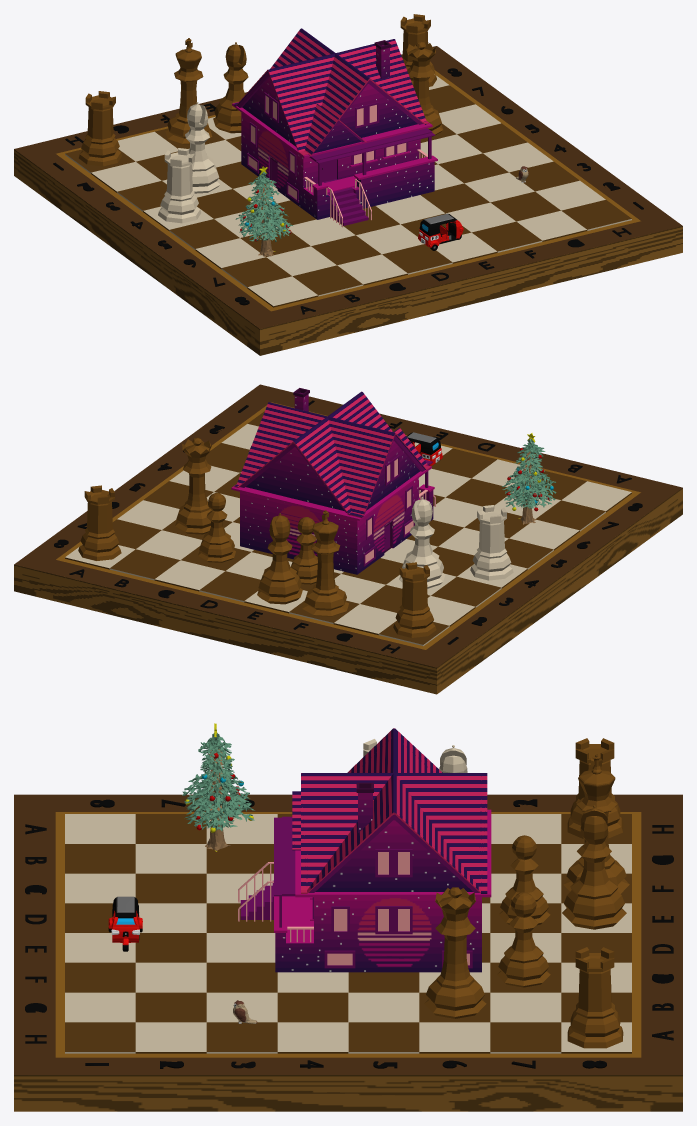
3 renders of one model, top to bottom at view 1: azimuth 30°, elevation 25°; view 2: azimuth 150°, elevation 25°; view 3: azimuth 270°, elevation 25°, orthographic. The views are drawn at different scales.
Visible parts, largest first — view 1: Cube.002, Cube.156, OBJRANDOM_CHRISTMAS_TREE, VEHICLES_TUC_TUC; view 2: Cube.002, Cube.156, OBJRANDOM_CHRISTMAS_TREE, VEHICLES_TUC_TUC; view 3: Cube.002, Cube.156, OBJRANDOM_CHRISTMAS_TREE, VEHICLES_TUC_TUC.
Part boxes in pixels (x1,y1,x2,y2): Cube.002: (14,14,682,355); Cube.156: (232,28,437,227); OBJRANDOM_CHRISTMAS_TREE: (235,166,292,256); VEHICLES_TUC_TUC: (418,213,463,250); Cube.002: (14,384,682,694); Cube.156: (231,388,435,574); OBJRANDOM_CHRISTMAS_TREE: (502,433,556,524); VEHICLES_TUC_TUC: (406,432,442,465); Cube.002: (14,738,682,1111); Cube.156: (238,728,491,972); OBJRANDOM_CHRISTMAS_TREE: (182,723,254,851); VEHICLES_TUC_TUC: (108,896,142,951).
Size of the model in its own units: 3981 by 1585 by 4012.
37 materials, 4 textured.
